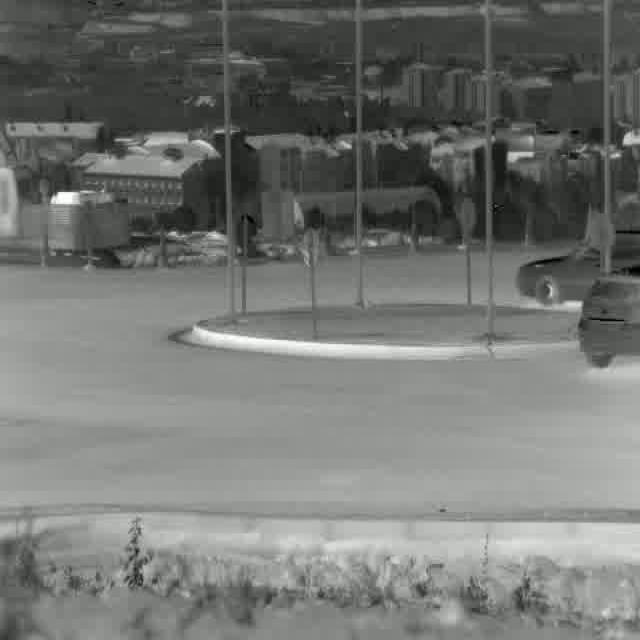Car: (510, 224, 640, 309), (578, 276, 640, 368)
